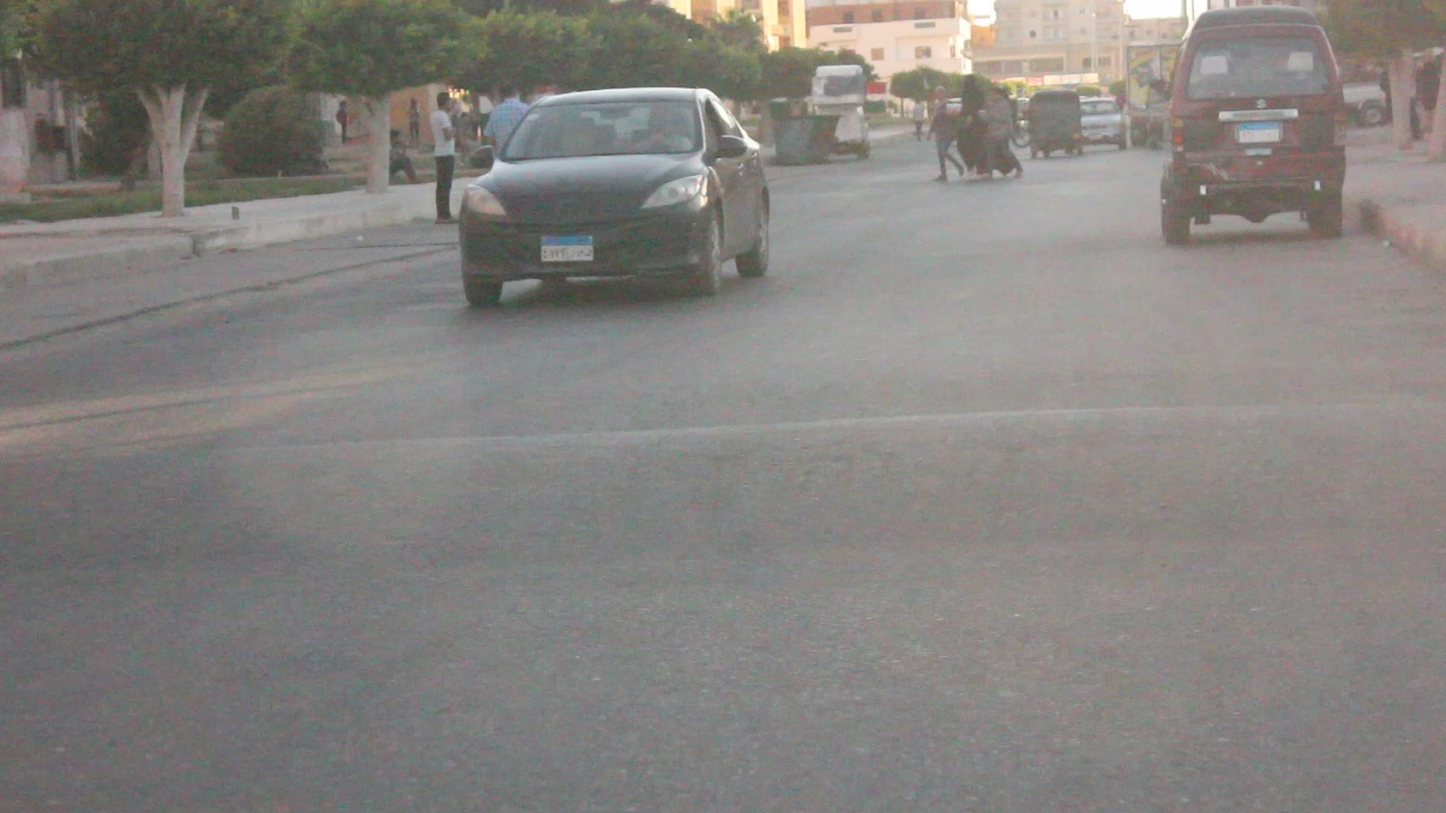Bump: (0, 414, 1446, 570)
